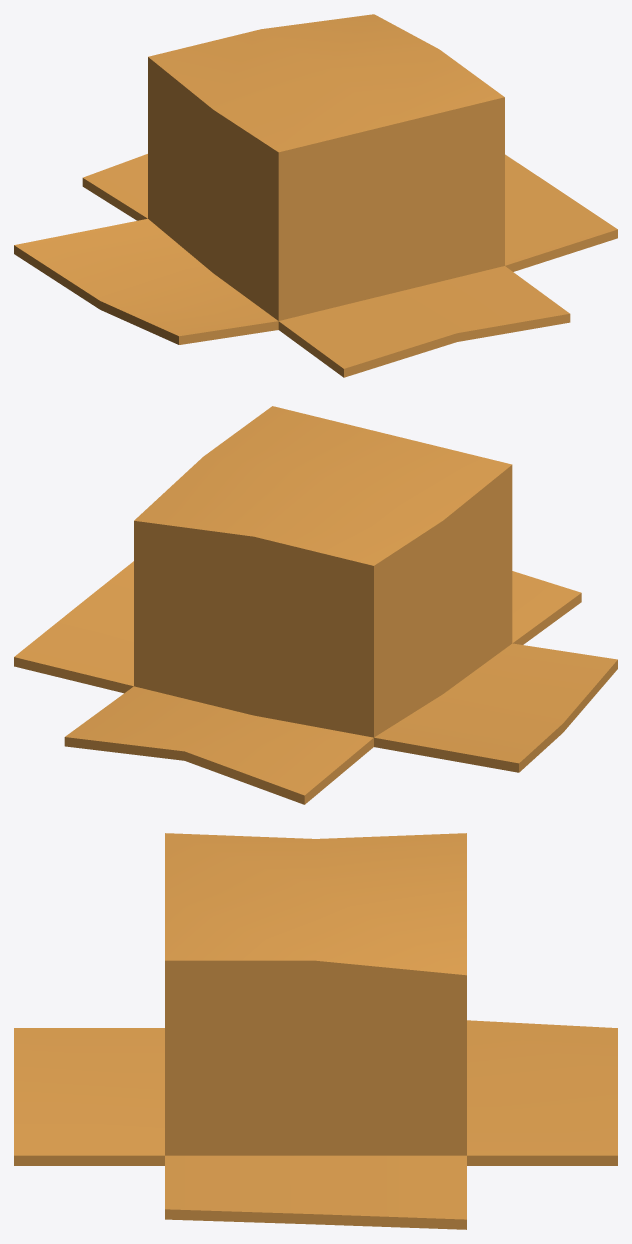
Rendered from CardboardBox.fbx.
3 views of the same model, one above another, from view 1: azimuth 30°, elevation 25°; view 2: azimuth 150°, elevation 25°; view 3: azimuth 270°, elevation 25° (orthographic). The views are drawn at different scales.
Parts seen in each view (by area): view 1: Box; view 2: Box; view 3: Box.
Boxes of the visible parts, box(x1,y1,x2,y2) form: Box: box(14, 14, 617, 377); Box: box(14, 406, 617, 804); Box: box(14, 833, 617, 1229).
Size of the model in its own units: 839 by 315 by 800.
